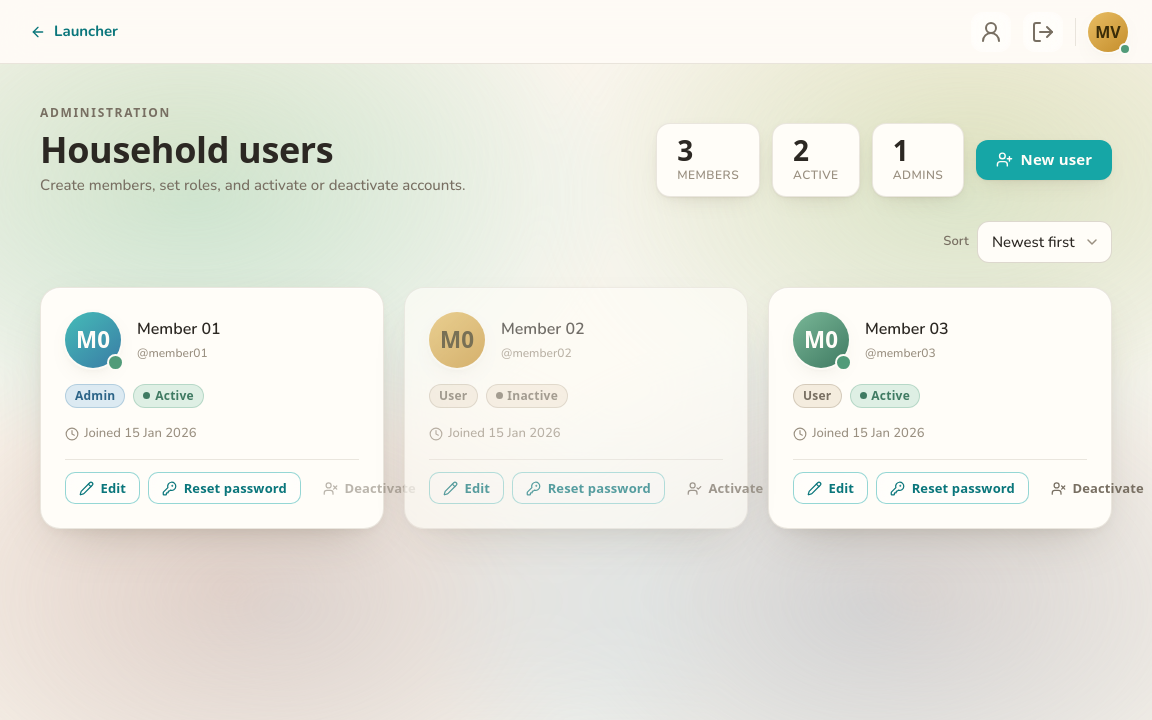
administrative user management › maps a backend validation error to the create form without adding a user
Expected: the text "Member 01" is shown, [137,317,221,341]
Click the button "New user".
click(1044, 160)  # box [976,140,1112,180]
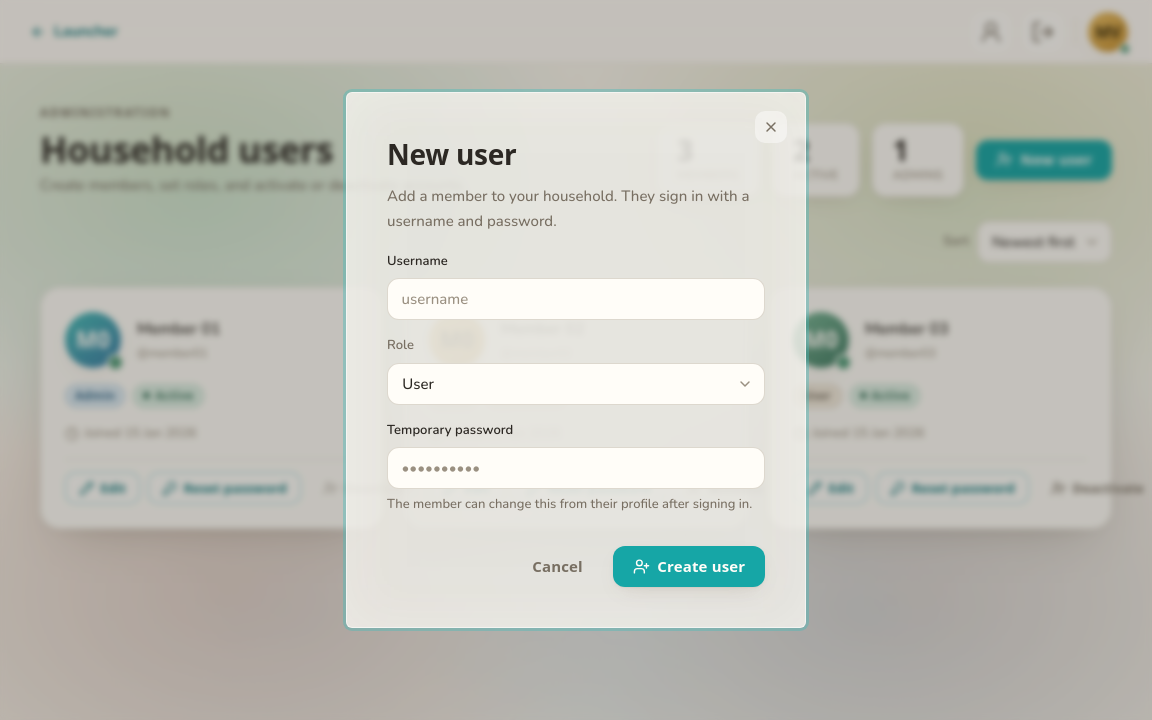
Type "taken" into the field labelled "Username".
click(576, 299); type("taken")  # box [402,280,750,318]
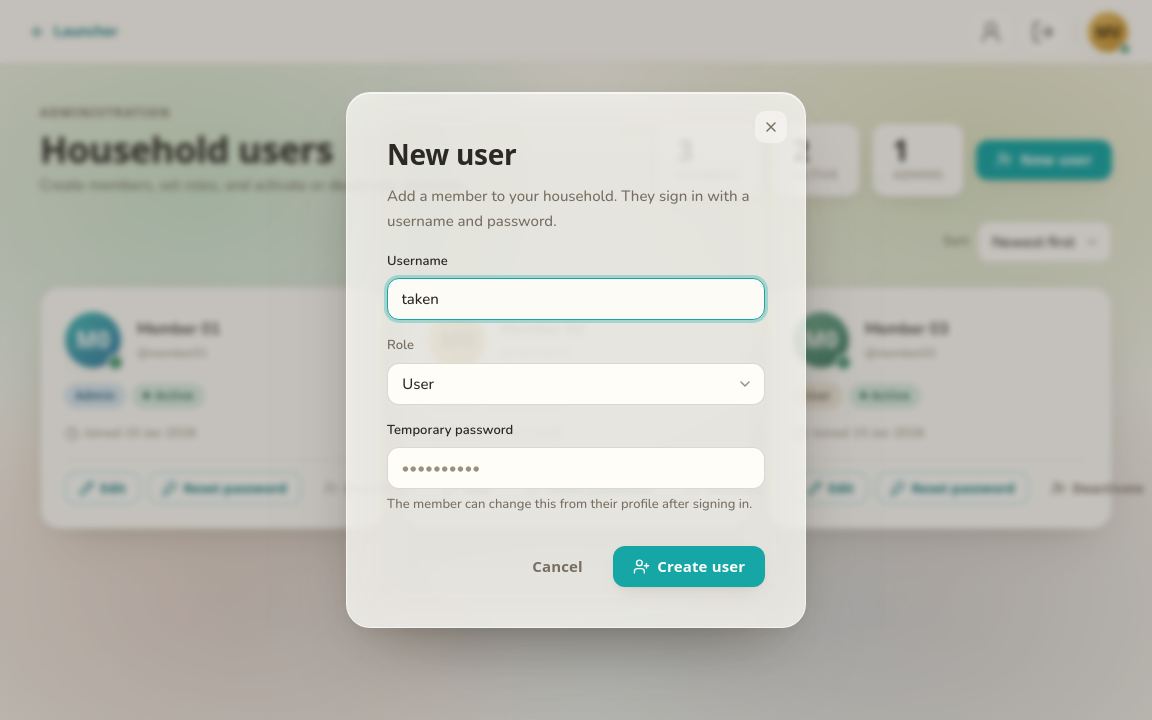
Type "Password1234!" into the password field labelled "Temporary password".
click(576, 468); type("Password1234!")  # box [402,449,750,487]
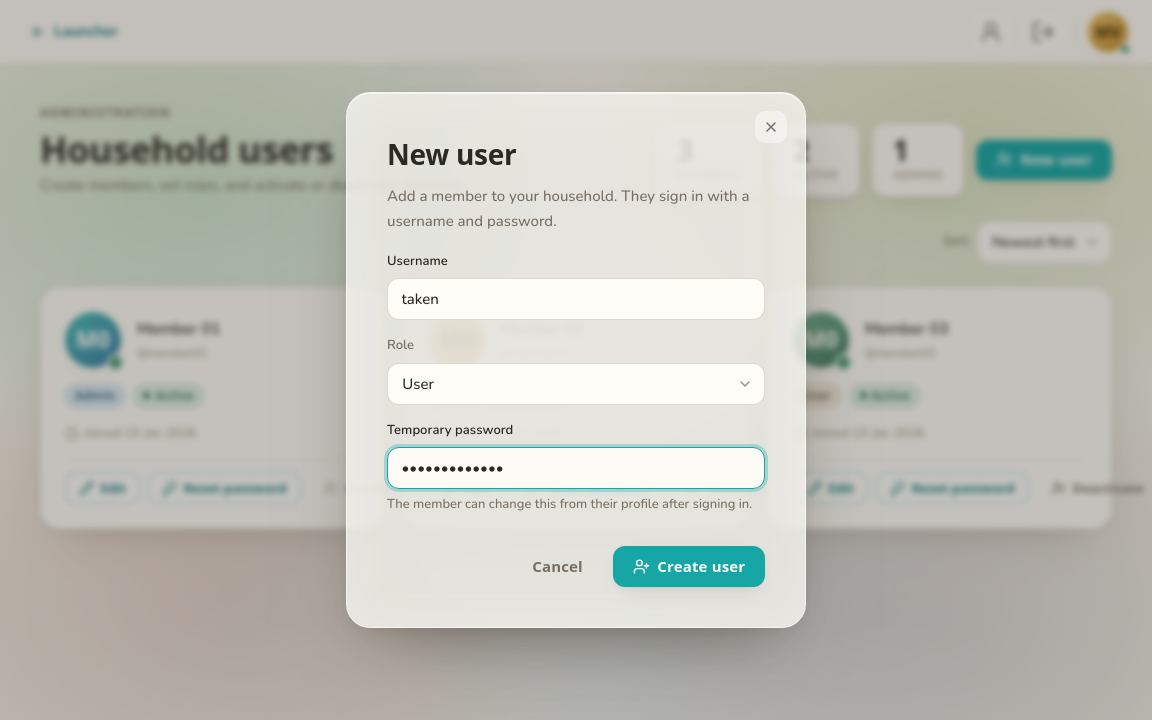
Click the button "Create user".
click(689, 567)  # box [613,546,765,587]
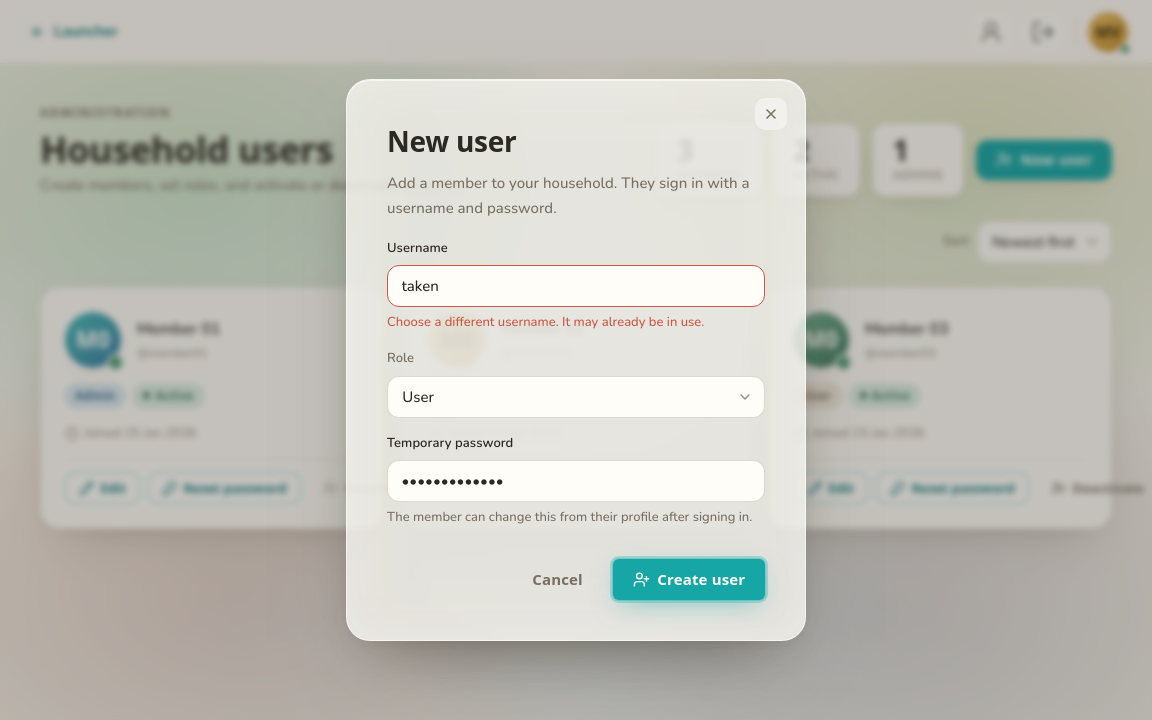
Expected: the text "Choose a different username. It may already be in use." is shown, [387,313,704,331]
